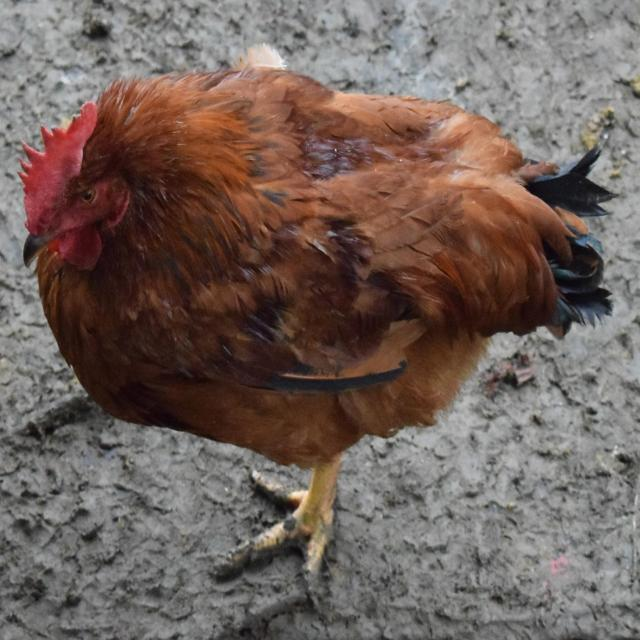cook: (20, 45, 612, 577)
